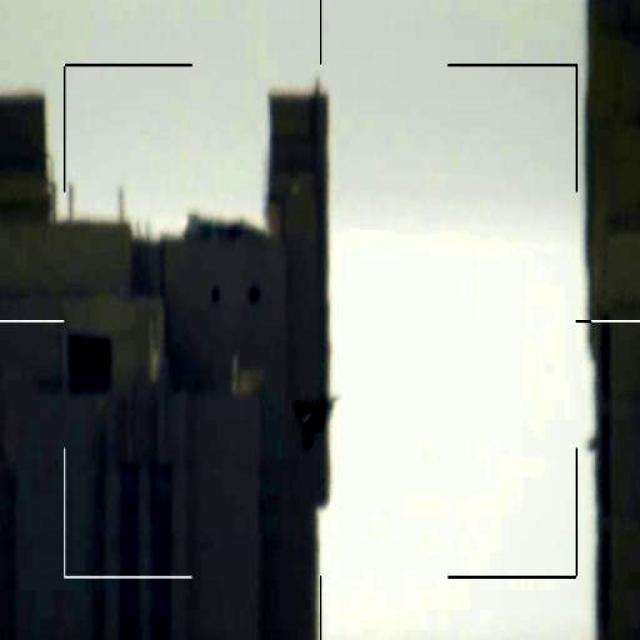bird: (291, 389, 346, 461)
